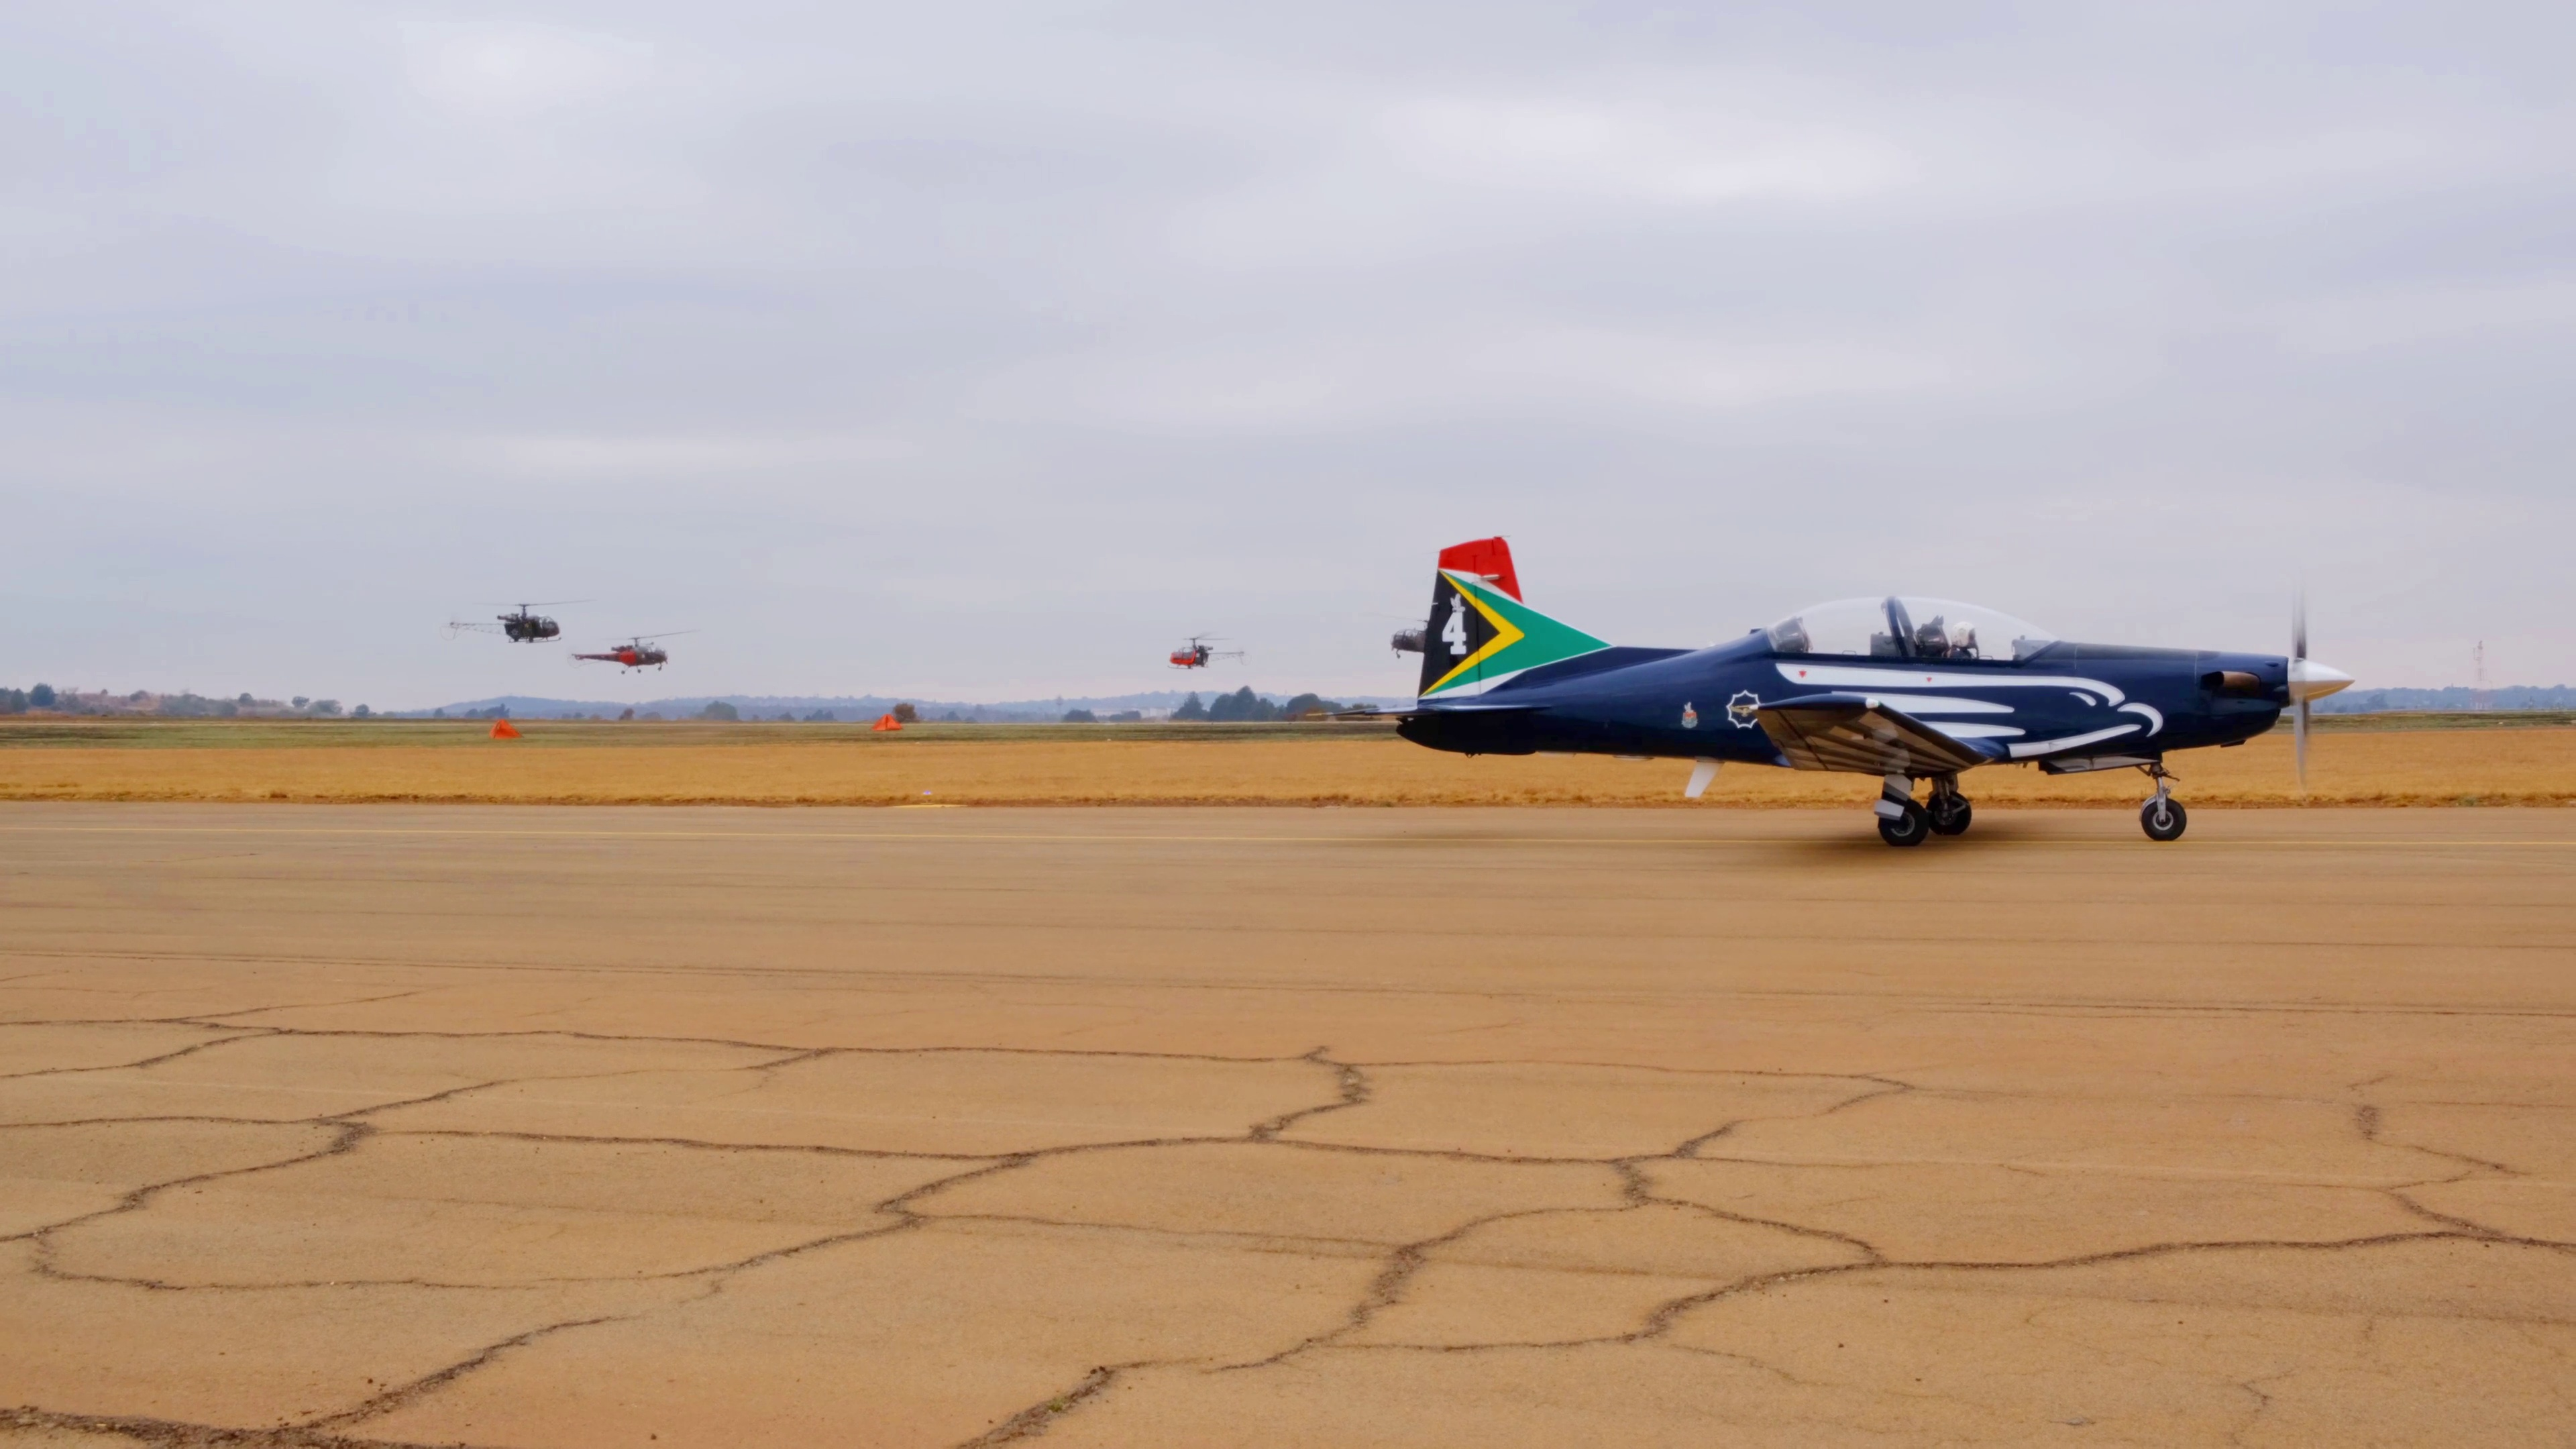heli: (448, 600, 586, 648), (571, 630, 697, 672), (1169, 632, 1246, 671), (1387, 617, 1428, 660)
plane: (1399, 536, 2341, 842)
